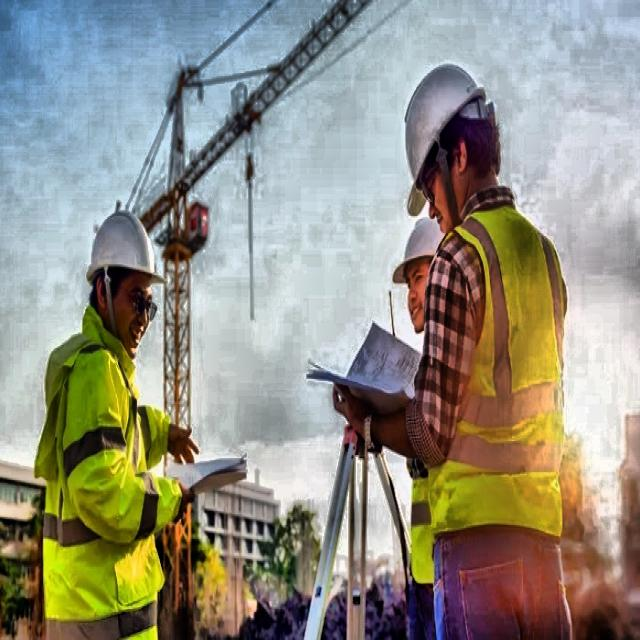safety_helmet: (387, 61, 488, 150), (75, 218, 157, 271), (391, 220, 438, 281)
safety_jacket: (428, 219, 568, 531), (49, 324, 160, 637)
